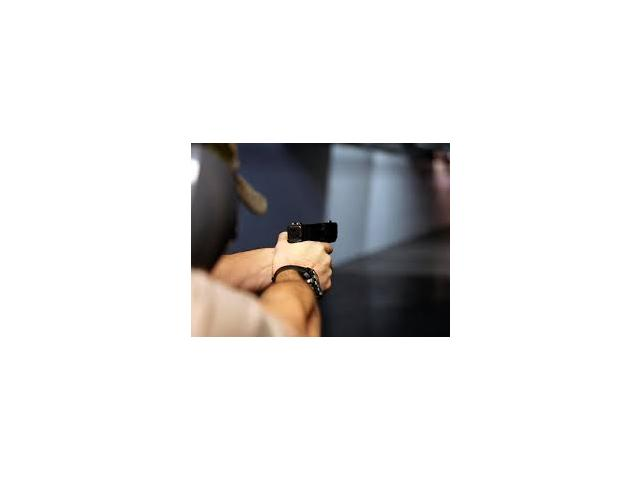pistol: (284, 221, 342, 293)
